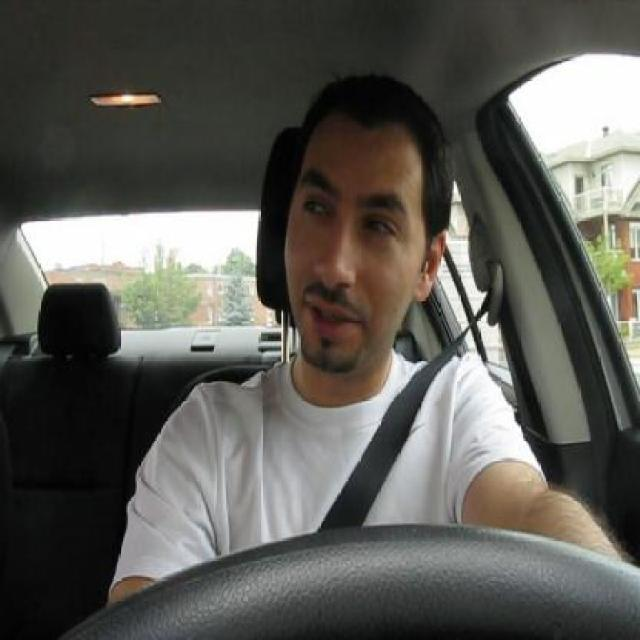awake: (363, 208, 397, 247), (302, 189, 330, 225)
